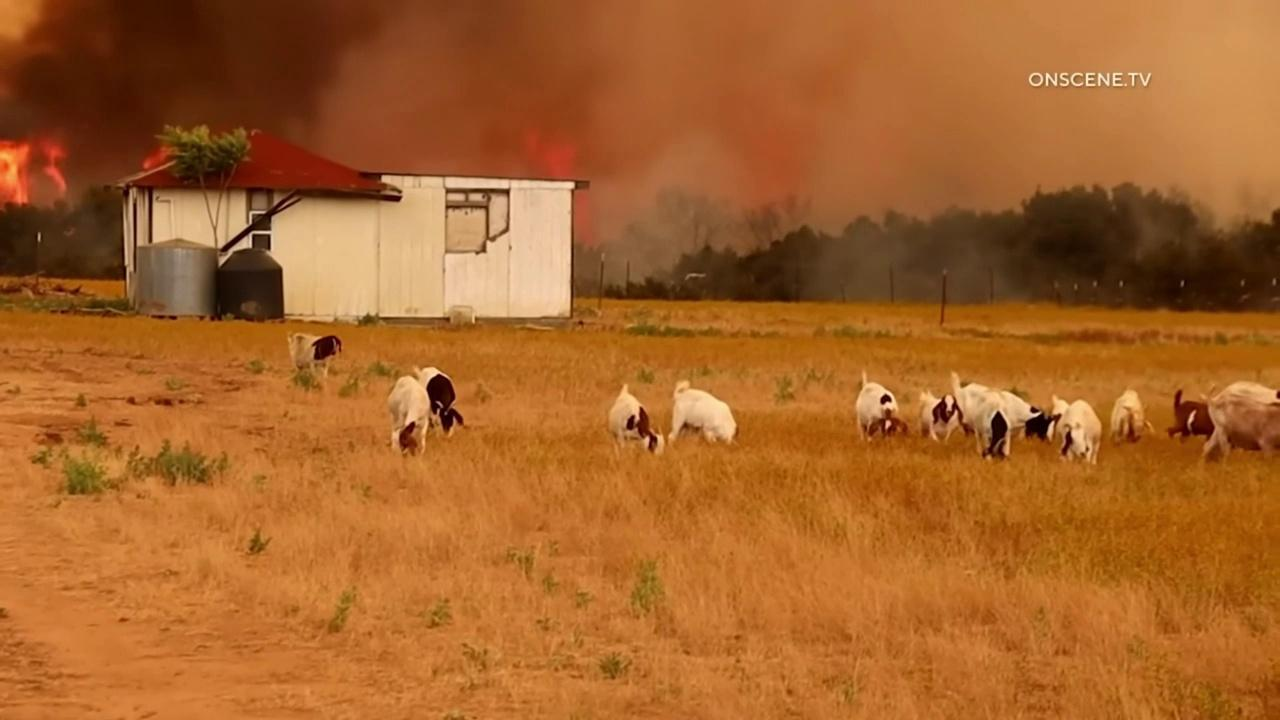fire: (0, 136, 69, 215), (526, 128, 579, 178), (142, 148, 171, 171)
smoke: (0, 0, 1280, 303)
